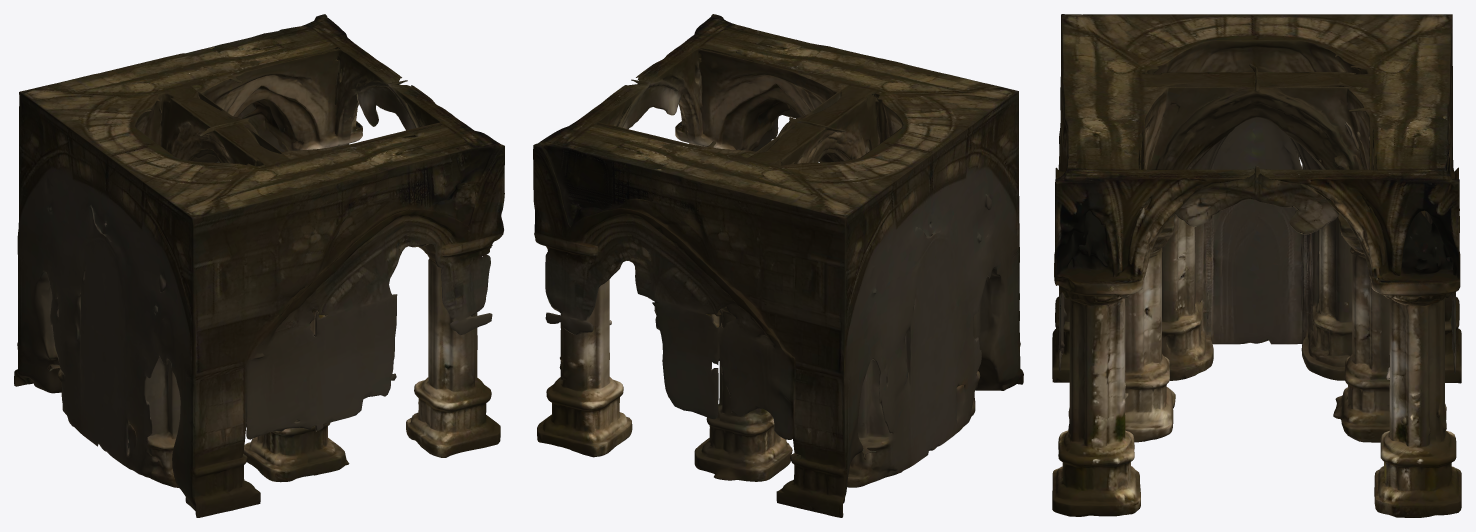
The model's file is bossDungeon.fbx.
3 renders of one model, left to right at view 1: azimuth 30°, elevation 25°; view 2: azimuth 150°, elevation 25°; view 3: azimuth 270°, elevation 25°, orthographic. The views are drawn at different scales.
Visible parts, largest first — view 1: tripo_node_618492db; view 2: tripo_node_618492db; view 3: tripo_node_618492db.
Boxes of the visible parts, x1,y1,x2,y2 form: tripo_node_618492db: [14, 14, 504, 517]; tripo_node_618492db: [533, 14, 1023, 517]; tripo_node_618492db: [1052, 14, 1461, 517].
Size of the model in its own units: 0.9995 by 0.9121 by 0.9999.
1 material, 1 textured.
